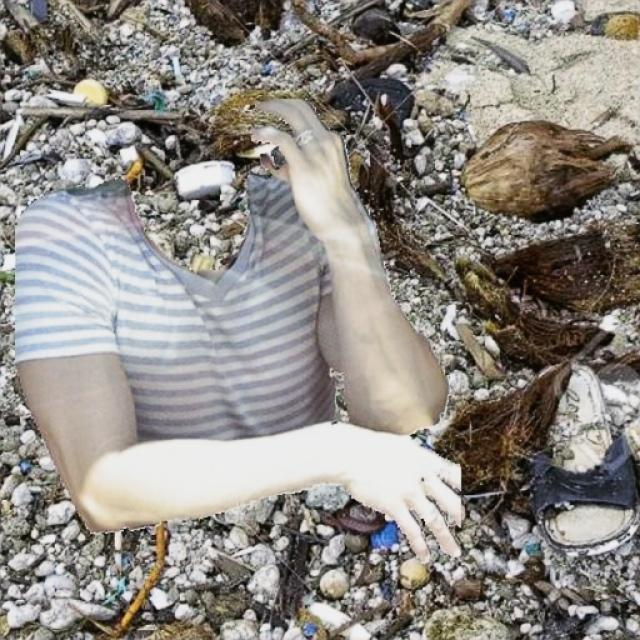Person in Rubble: (15, 98, 460, 562)
